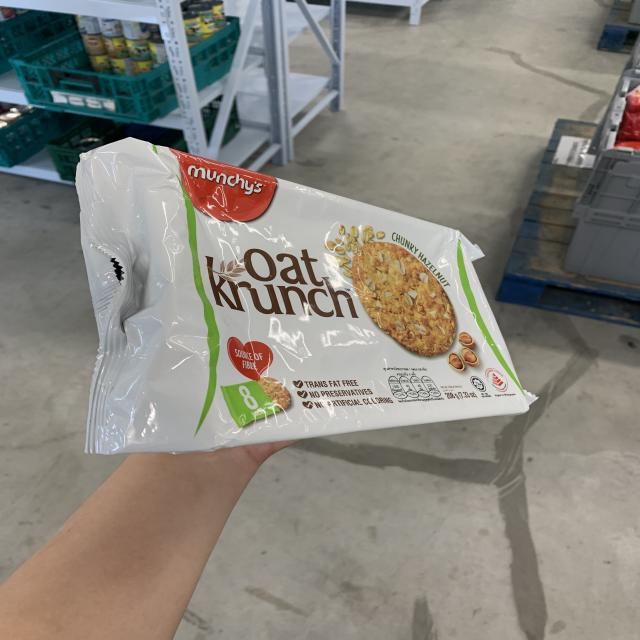object_name: (111, 160, 497, 425)
